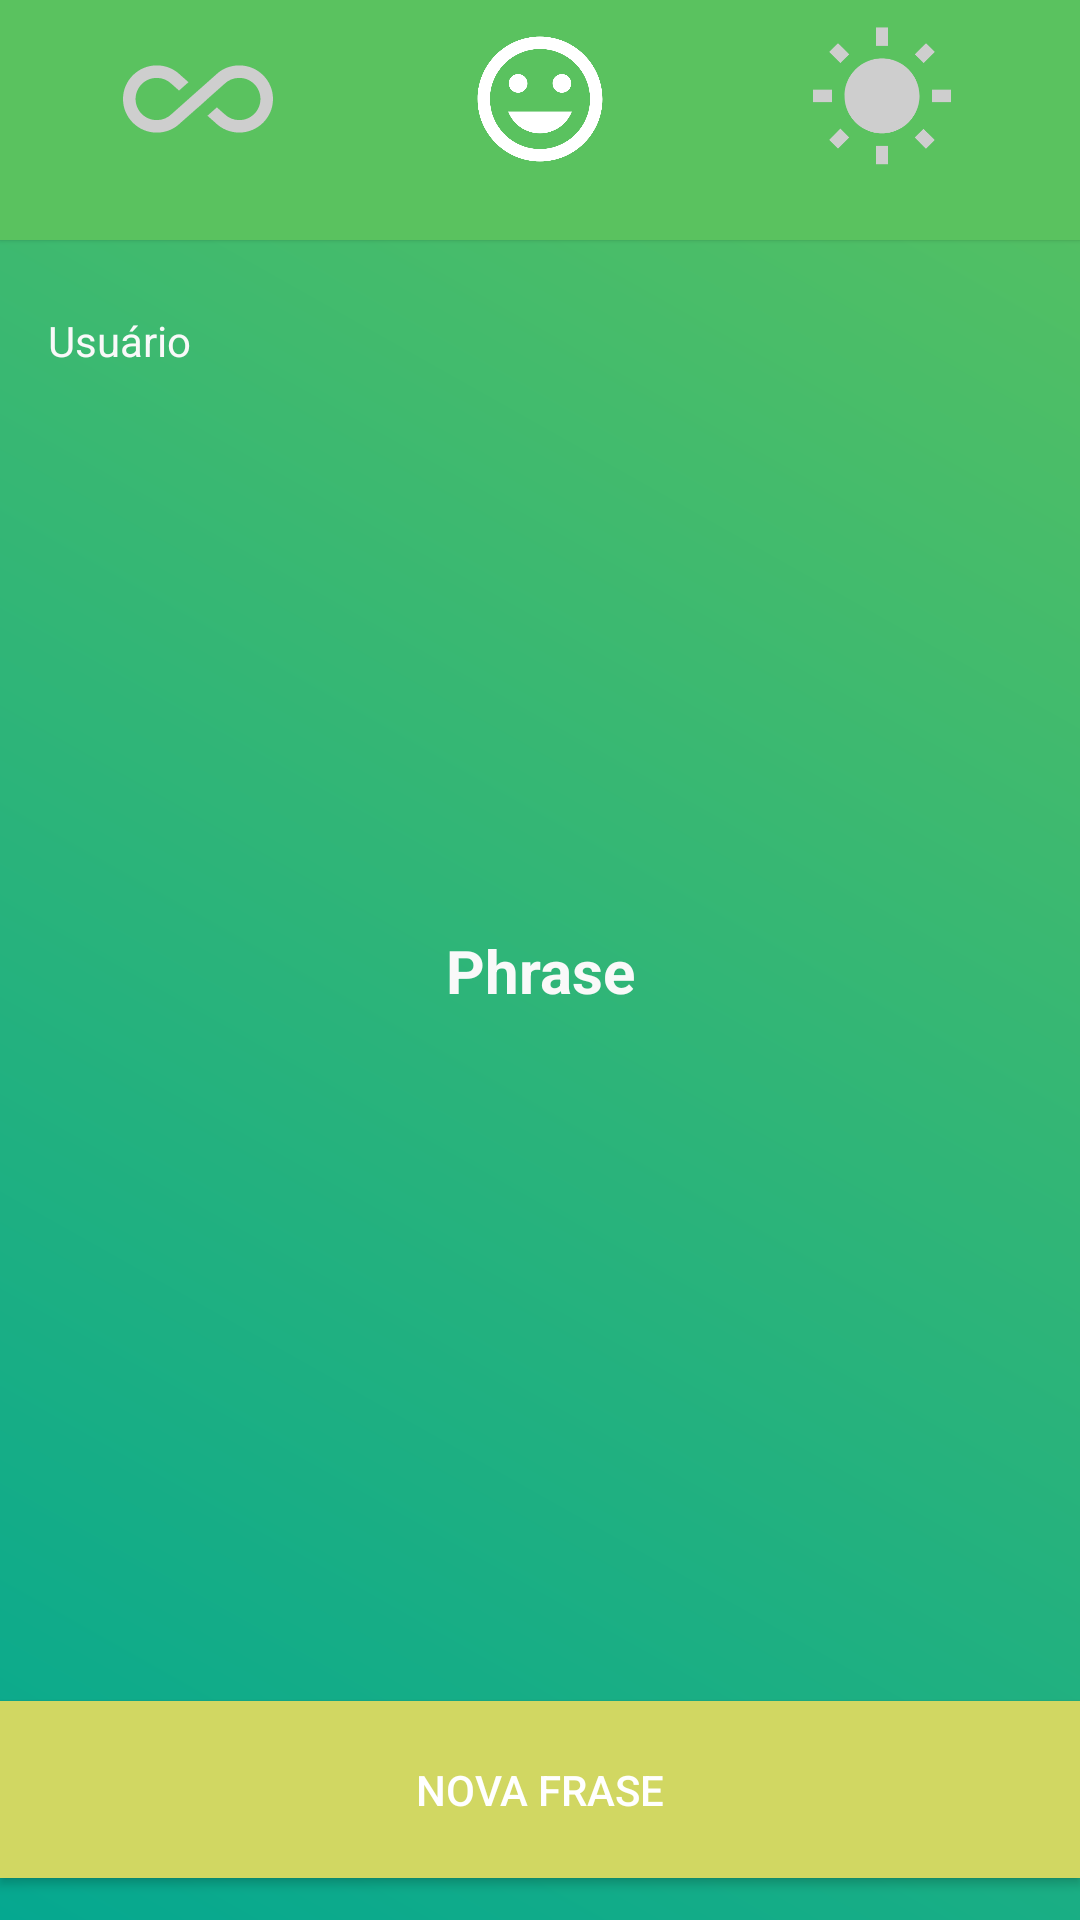

Point at icon controls on the screen. Image size 1080*1920, points as (x=x, y=y).
all: (x=198, y=99)
happy: (x=540, y=99)
sunny: (x=882, y=96)
